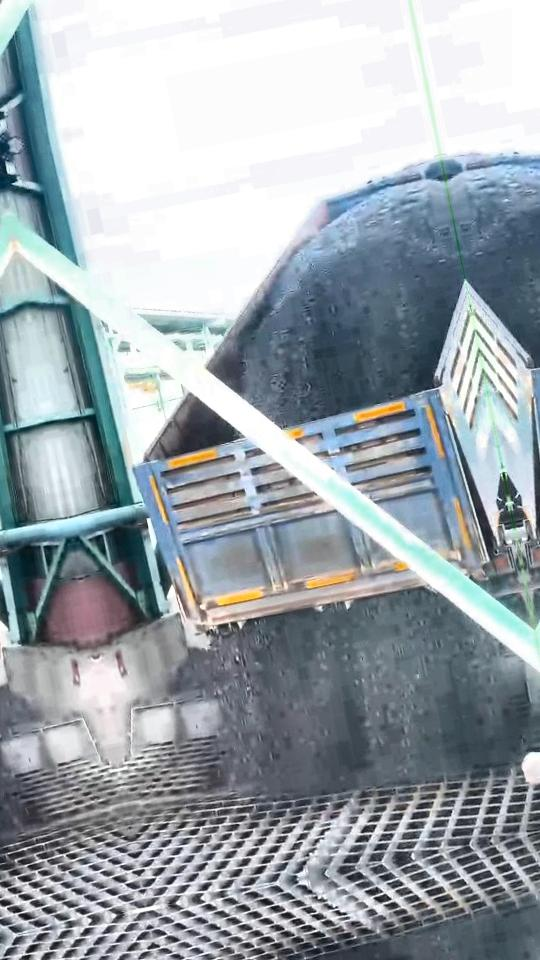gravel: (174, 589, 527, 796), (241, 180, 462, 426)
